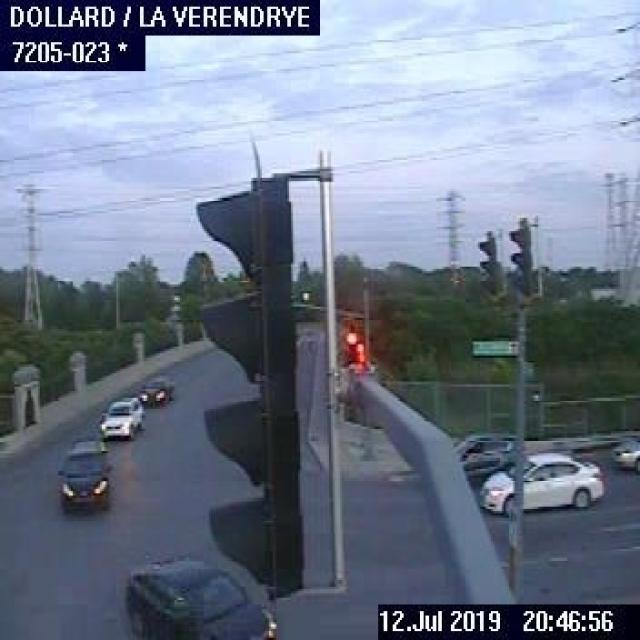vehicle: (120, 556, 276, 638), (478, 448, 606, 514), (53, 436, 109, 516), (453, 426, 517, 474), (97, 392, 148, 438), (137, 372, 174, 406), (609, 433, 638, 471)
